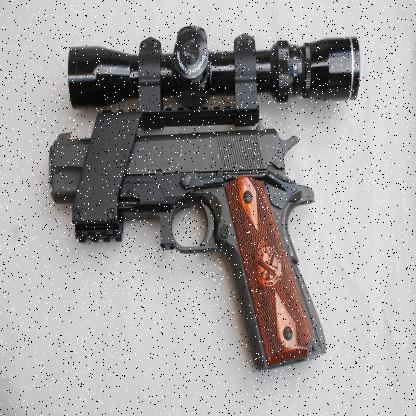pistol: (39, 121, 329, 370)
